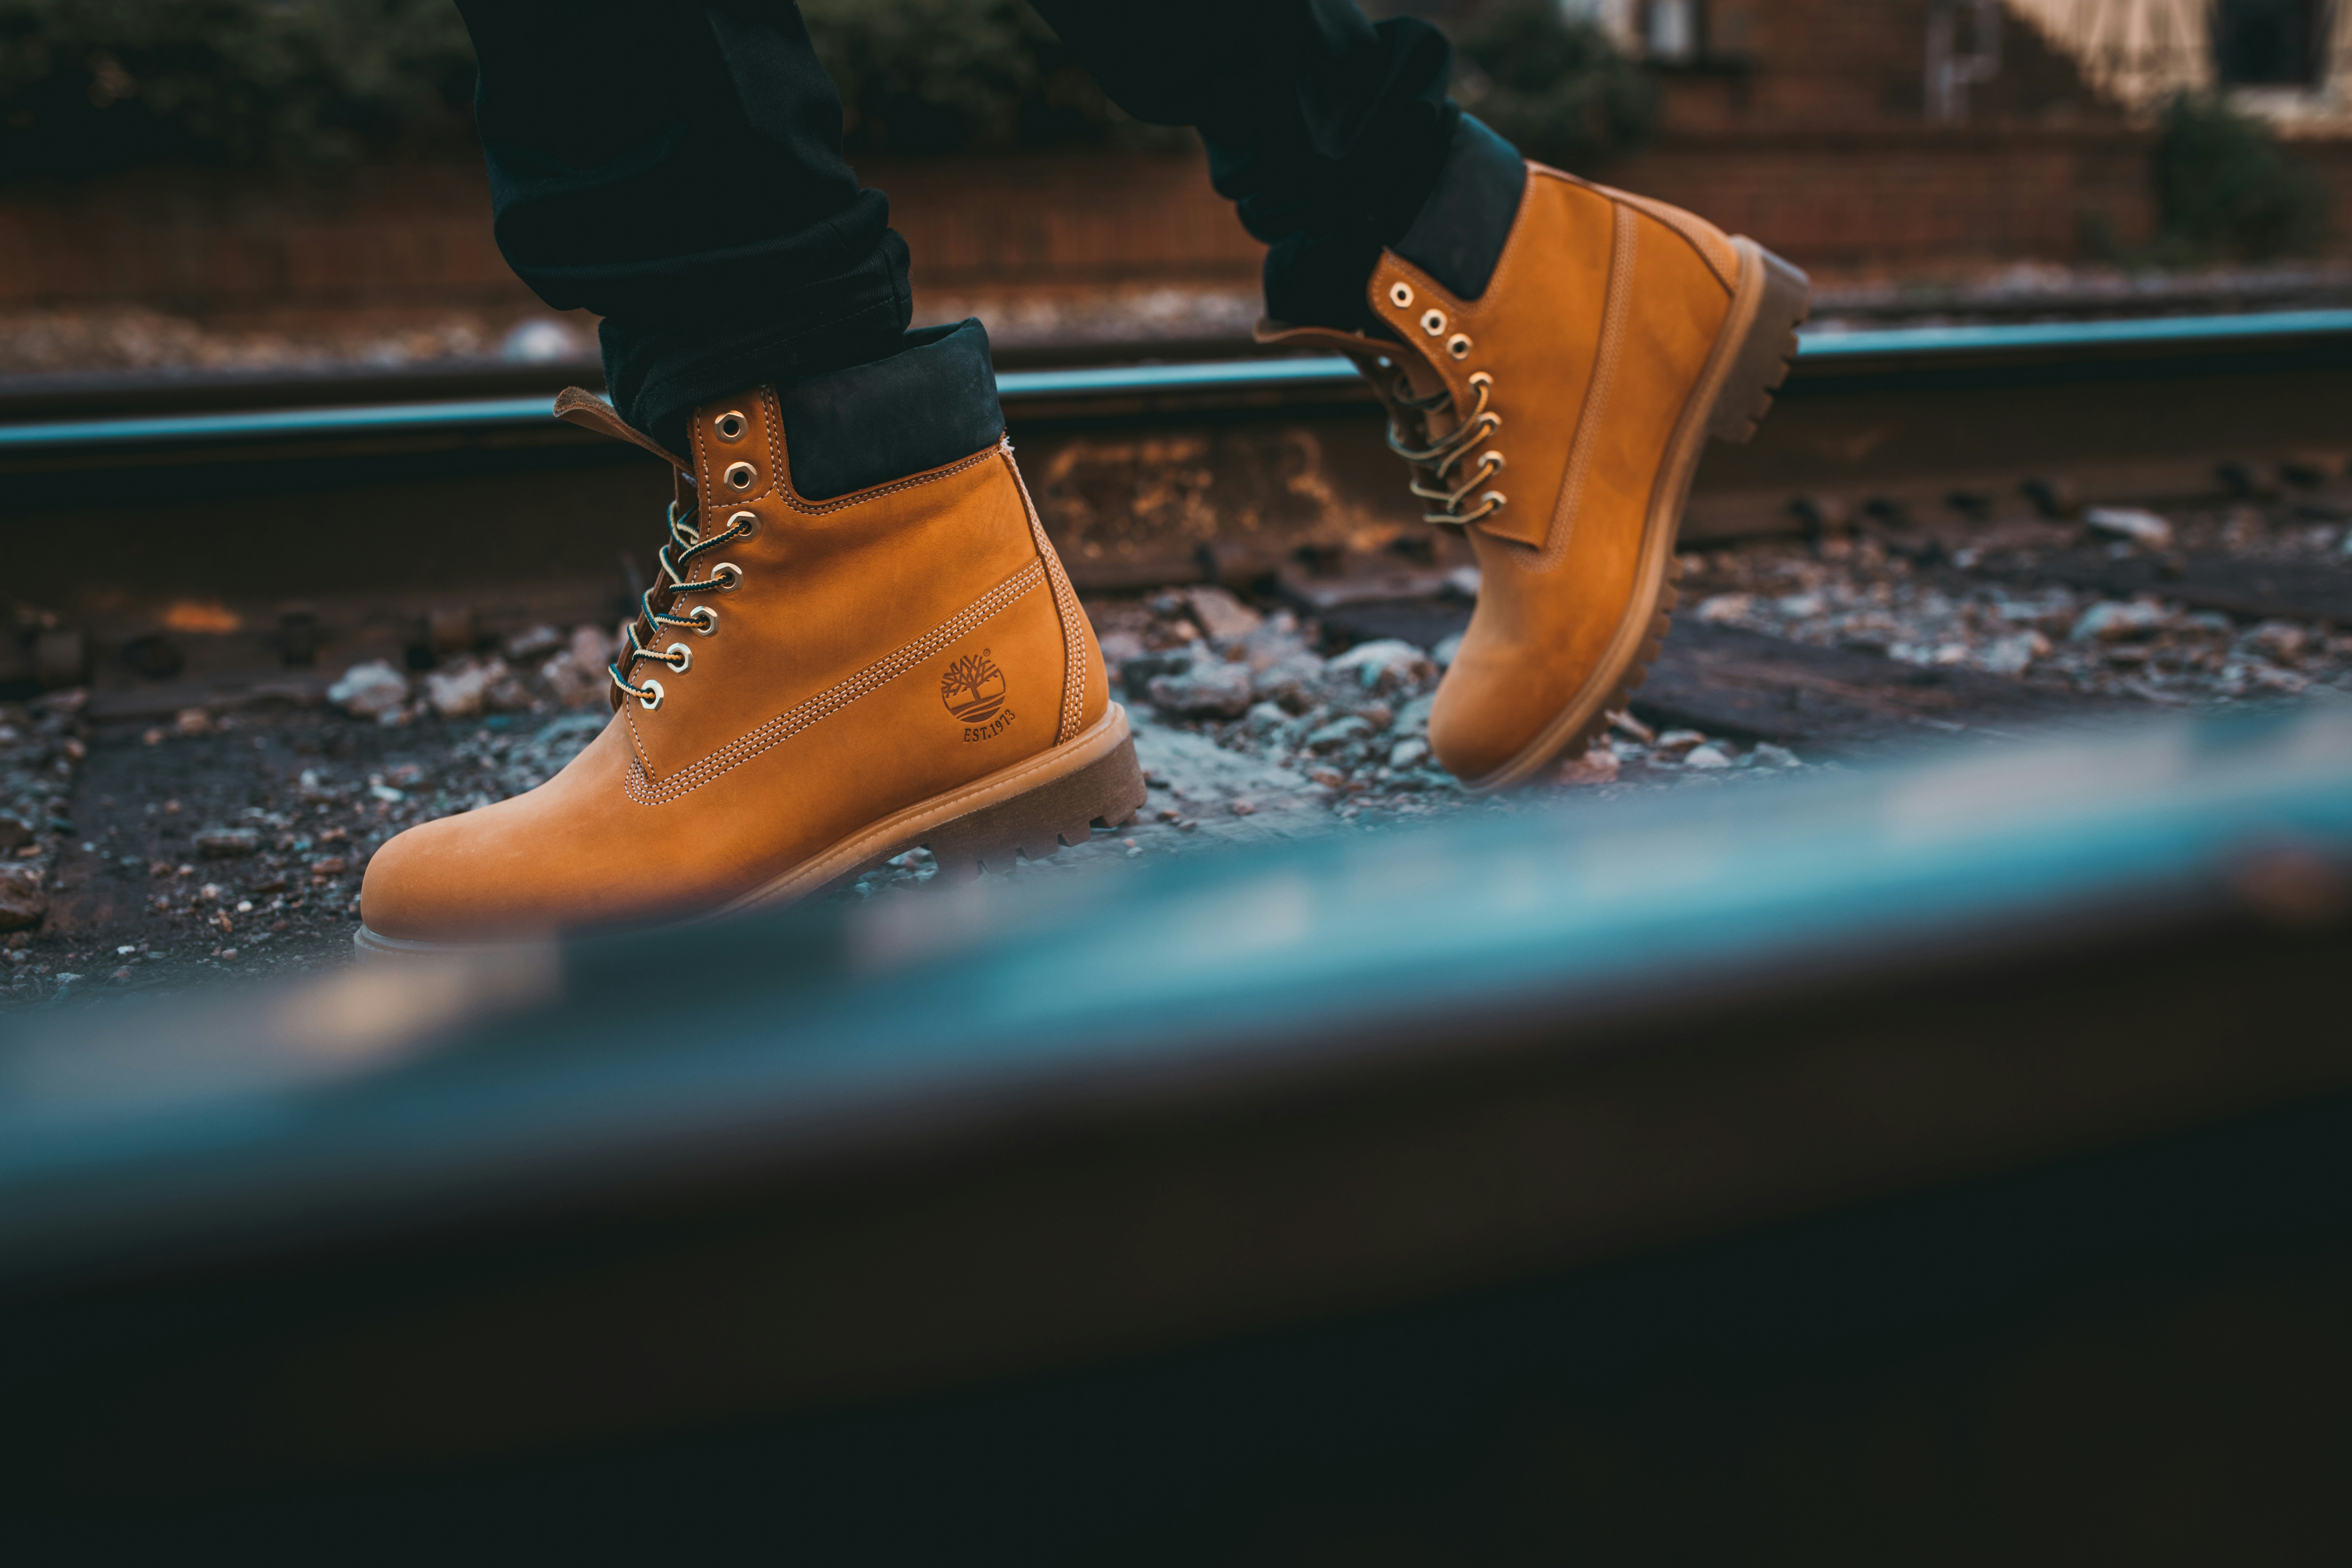Footwear: (322, 336, 1160, 955), (1232, 136, 1846, 777)
